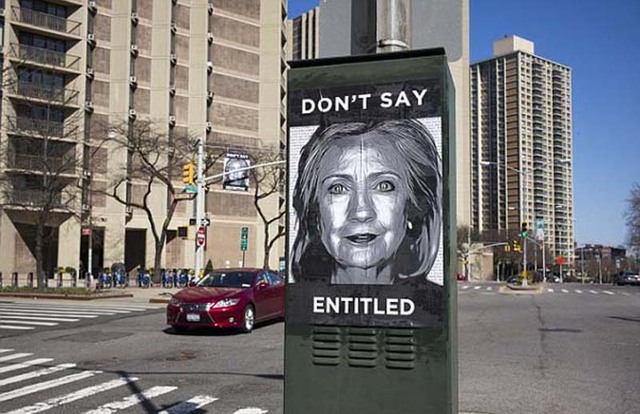bill: (286, 89, 447, 325), (220, 151, 251, 193)
